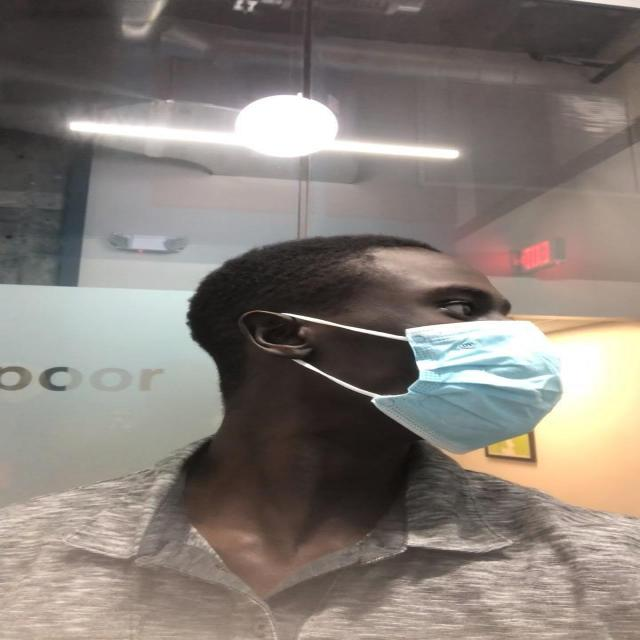face: (235, 256, 562, 454)
